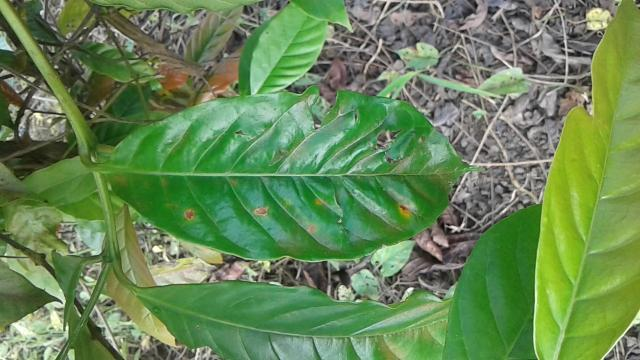rust_level_1: (106, 88, 482, 258)
